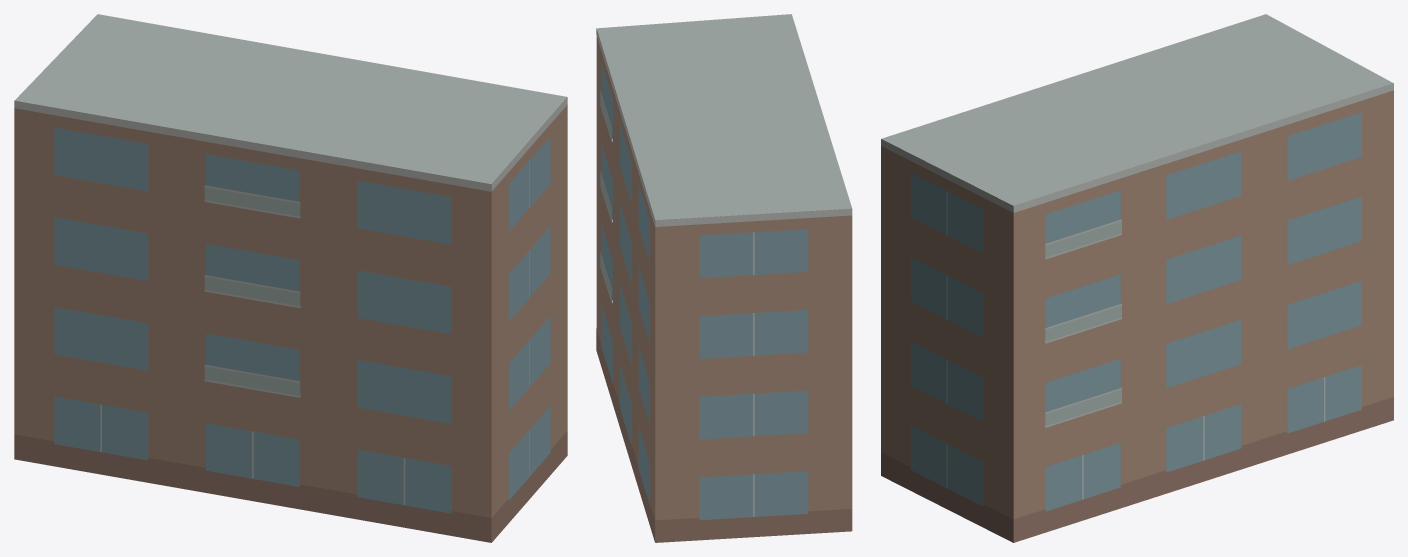
The model's file is survey-upis-32697264.glb.
3 views of the same model, side by side, from view 1: azimuth 30°, elevation 25°; view 2: azimuth 150°, elevation 25°; view 3: azimuth 270°, elevation 25° (orthographic). The views are drawn at different scales.
Visible parts, largest first — view 1: survey-upis-32697264.tmp; view 2: survey-upis-32697264.tmp; view 3: survey-upis-32697264.tmp.
Boxes of the visible parts, x1,y1,x2,y2 form: survey-upis-32697264.tmp: [14, 14, 567, 542]; survey-upis-32697264.tmp: [596, 14, 852, 542]; survey-upis-32697264.tmp: [881, 14, 1393, 542].
Size of the model in its own units: 14.18 by 11.6 by 16.01.
